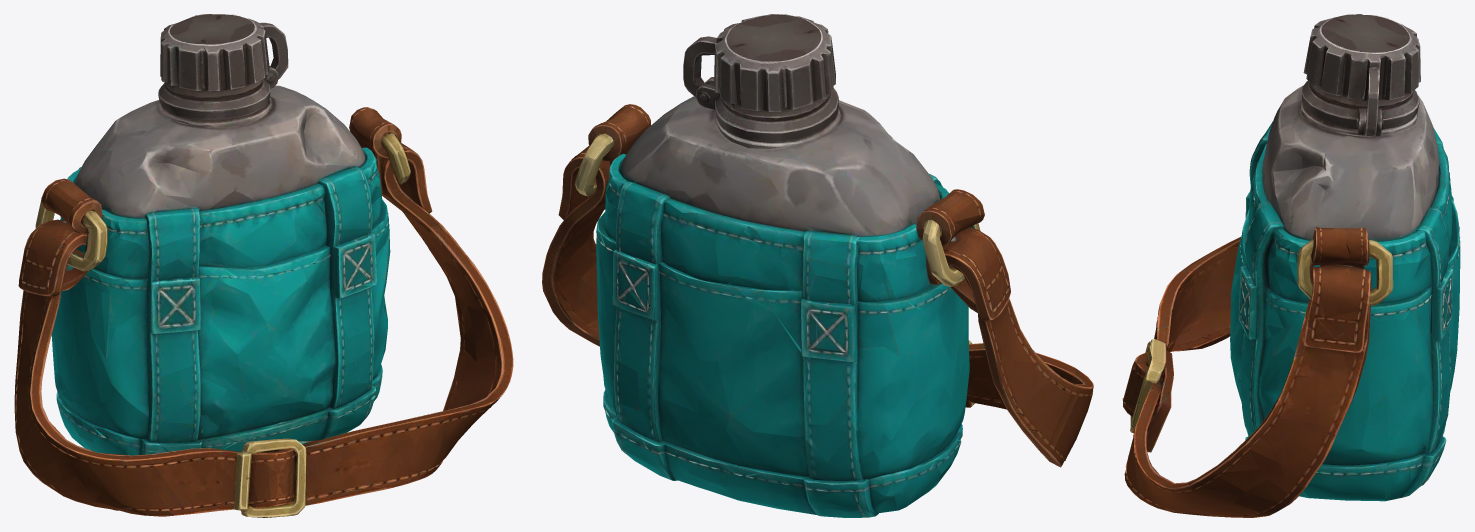
The model's file is cons_canteen.glb.
3 renders of one model, left to right at view 1: azimuth 30°, elevation 25°; view 2: azimuth 150°, elevation 25°; view 3: azimuth 270°, elevation 25°, orthographic. The views are drawn at different scales.
Parts seen in each view (by area): view 1: output_unwrapped; view 2: output_unwrapped; view 3: output_unwrapped.
Part boxes in pixels (bbox=[...]): output_unwrapped: bbox=[14, 14, 513, 517]; output_unwrapped: bbox=[542, 14, 1093, 517]; output_unwrapped: bbox=[1122, 14, 1460, 517].
Size of the model in its own units: 1.9 by 1.61 by 1.17.
Materials: 1 (1 with a texture image).
